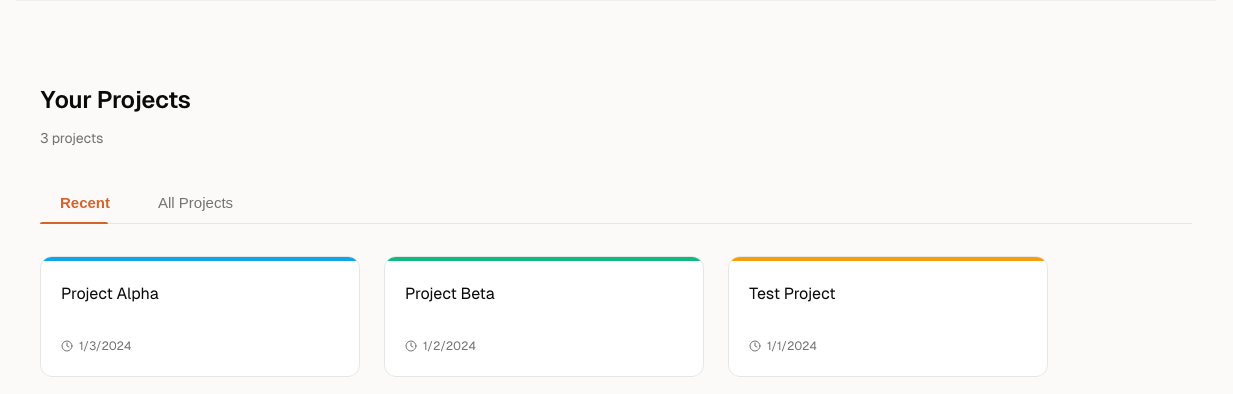
ProjectGallery › should show clear search button when search query exists
Click the tab "All Projects".
click(196, 202)  # box [138,182,253,223]
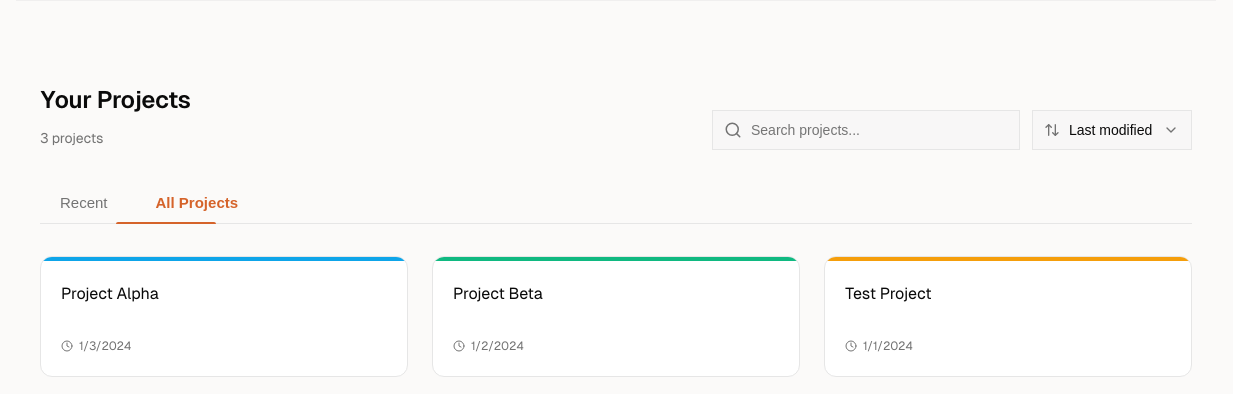
Type "test" into the search field with placeholder "Search projects...".
click(866, 130); type("test")  # box [712,110,1020,150]
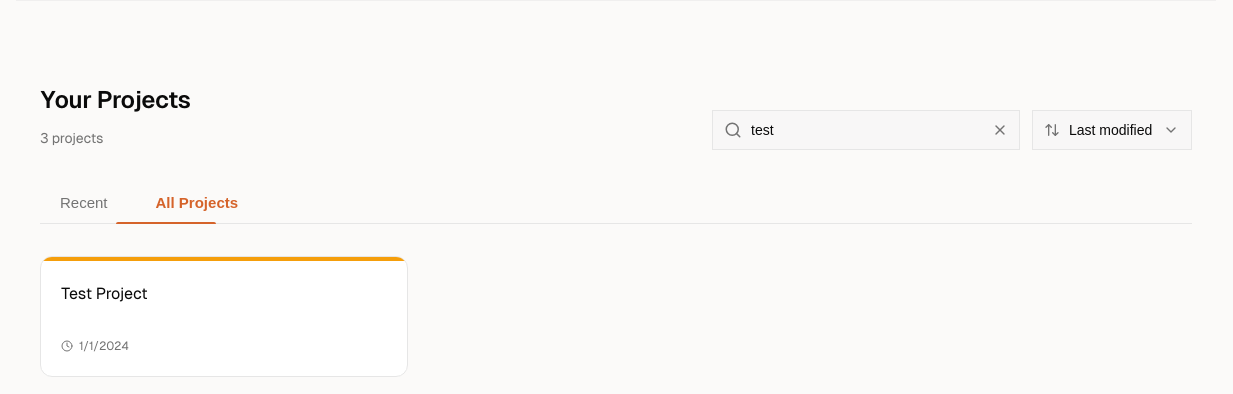
Result: the button named "Clear search" is shown
Click the button named "Clear search".
click(1000, 130)  # box [988,118,1012,142]
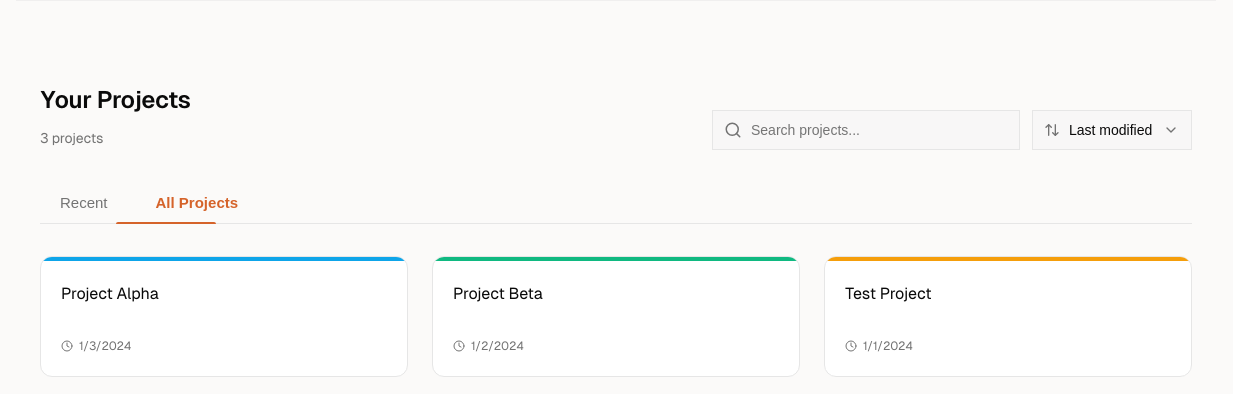
Result: the search field with placeholder "Search projects..." is empty at [712,110,1020,150]
